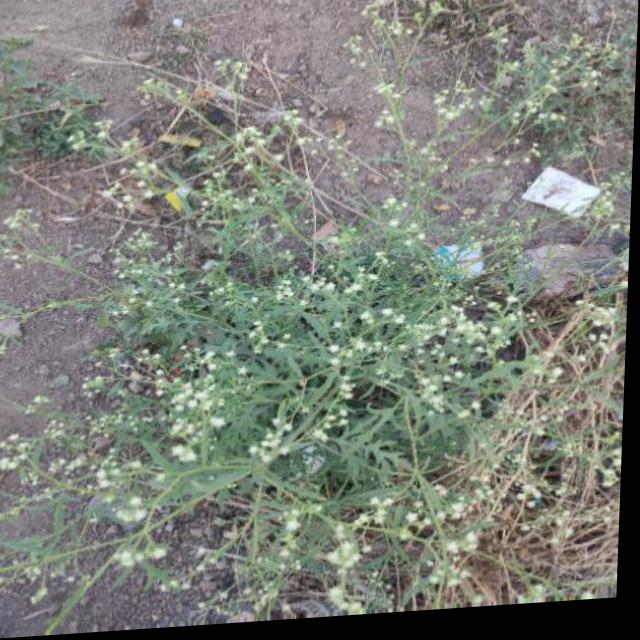weed: (30, 5, 620, 629)
